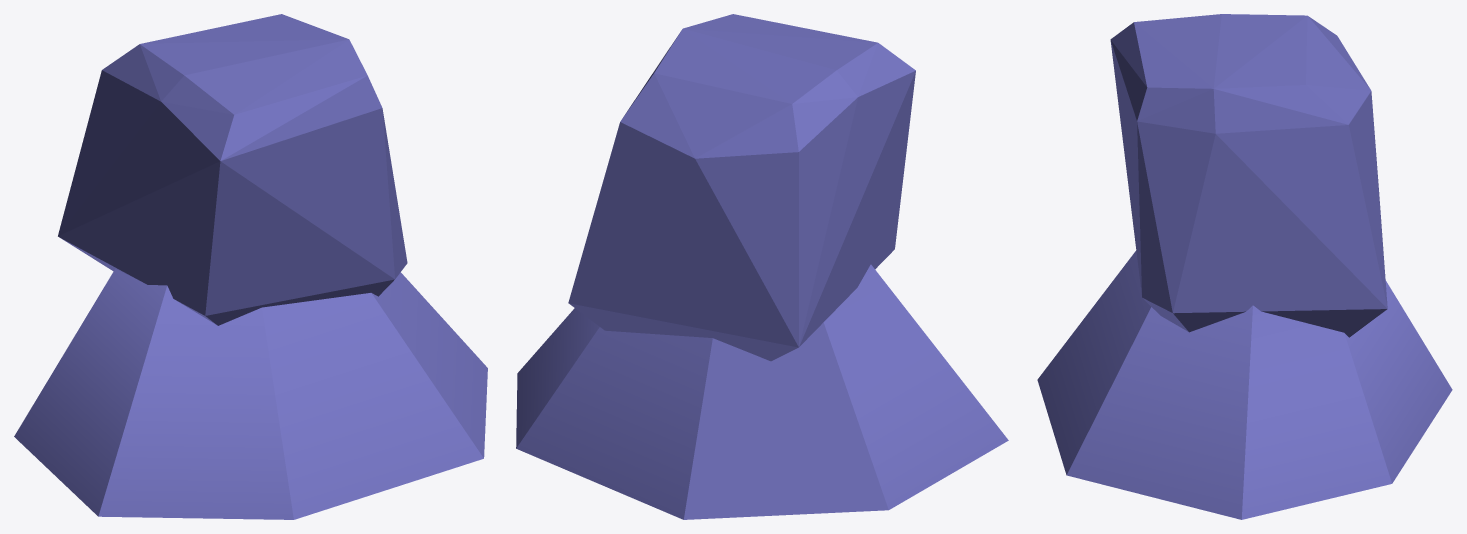
Rendered from Cliff_Spire_06_Taper_Collider_01.FBX.
3 renders of one model, left to right at view 1: azimuth 30°, elevation 25°; view 2: azimuth 150°, elevation 25°; view 3: azimuth 270°, elevation 25°, orthographic. The views are drawn at different scales.
Parts seen in each view (by area): view 1: COLLIDER2, COLLIDER1; view 2: COLLIDER1, COLLIDER2; view 3: COLLIDER1, COLLIDER2.
Part boxes in pixels (bbox=[...]): COLLIDER2: bbox=[14, 269, 487, 519]; COLLIDER1: bbox=[58, 14, 407, 325]; COLLIDER1: bbox=[568, 14, 915, 361]; COLLIDER2: bbox=[516, 264, 1008, 519]; COLLIDER1: bbox=[1110, 14, 1387, 337]; COLLIDER2: bbox=[1037, 250, 1452, 519].
Size of the model in its own units: 363 by 294 by 308.
